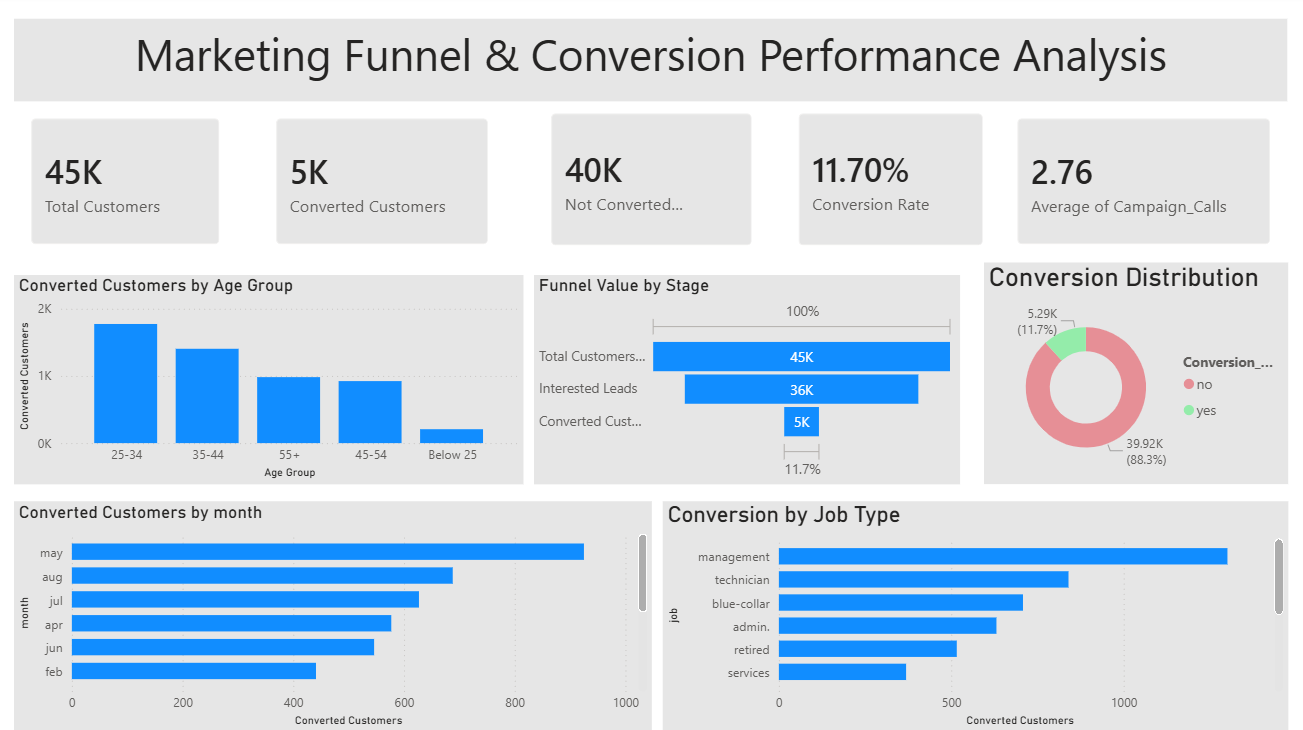

The page's visual inventory and layout, read from the dashboard file:
{"tool":"powerbi","page":{"name":"Page 1","canvas":[1280,720],"ordinal":0},"visuals":[{"type":"funnel","fields":{"Category":["FunnelStages.Stage"],"Y":["FunnelStages.Funnel Value"]},"box":[522.8,274.4,417.2,204.5],"z":0},{"type":"cardVisual","fields":{"Data":["bank-full.Total Customers"]},"box":[15.1,104.3,218.2,157.8],"z":1},{"type":"cardVisual","fields":{"Data":["bank-full.Converted Customers"]},"box":[253.9,104.3,241.5,157.8],"z":2},{"type":"cardVisual","fields":{"Data":["bank-full.Not Converted Customers"]},"box":[522.8,98.8,230.5,163.3],"z":3},{"type":"cardVisual","fields":{"Data":["bank-full.Conversion Rate"]},"box":[765.7,98.8,214.1,163.3],"z":4},{"type":"cardVisual","fields":{"Data":["Avg(bank-full.Campaign_Calls)"]},"box":[979.8,104.3,281.3,157.8],"z":5},{"type":"donutChart","title":"Conversion Distribution","fields":{"Category":["bank-full.Conversion_Status"],"Y":["CountNonNull(bank-full.Conversion_Status)"]},"box":[963.3,262.1,297.8,216.8],"z":6},{"type":"clusteredBarChart","title":"Conversion by Job Type","fields":{"Category":["bank-full.job"],"Y":["bank-full.Converted Customers"]},"box":[649.1,495.4,612,225],"z":7},{"type":"clusteredBarChart","fields":{"Category":["bank-full.month"],"Y":["bank-full.Converted Customers"]},"box":[15.1,495.4,624.4,225],"z":8},{"type":"clusteredColumnChart","fields":{"Category":["bank-full.Age Group"],"Y":["bank-full.Converted Customers"]},"box":[15.1,274.4,498.1,204.5],"z":9},{"type":"textbox","box":[15.1,23.3,1246,81],"z":10}]}

Visuals, with their boxes in screenshot pixels (x1, y1, x2, y2), scaled from the page's 1280x720 canvas onto the 1303x730 screenshot:
funnel - FunnelStages.Stage x FunnelStages.Funnel Value: region(532, 278, 957, 486)
cardVisual - bank-full.Total Customers: region(15, 106, 237, 266)
cardVisual - bank-full.Converted Customers: region(258, 106, 504, 266)
cardVisual - bank-full.Not Converted Customers: region(532, 100, 767, 266)
cardVisual - bank-full.Conversion Rate: region(779, 100, 997, 266)
cardVisual - Avg(bank-full.Campaign_Calls): region(997, 106, 1284, 266)
"Conversion Distribution" donutChart: region(981, 266, 1284, 486)
"Conversion by Job Type" clusteredBarChart: region(661, 502, 1284, 729)
clusteredBarChart - bank-full.month x bank-full.Converted Customers: region(15, 502, 651, 729)
clusteredColumnChart - bank-full.Age Group x bank-full.Converted Customers: region(15, 278, 522, 486)
textbox: region(15, 24, 1284, 106)
